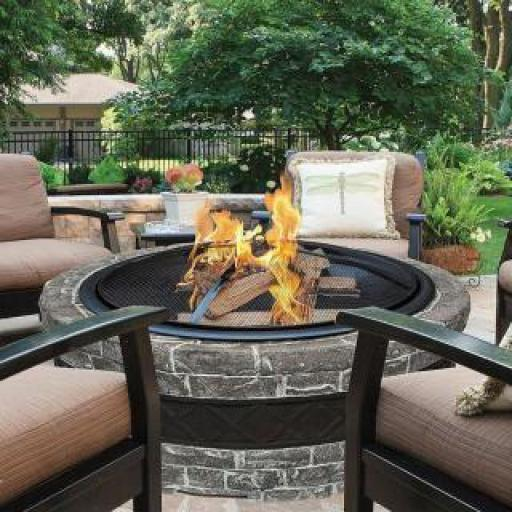smoke: (197, 176, 317, 338)
